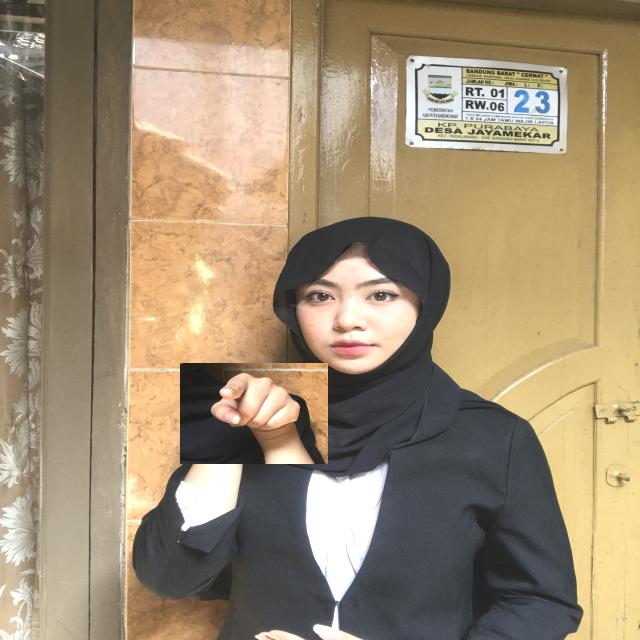kamu: (180, 363, 328, 464)
